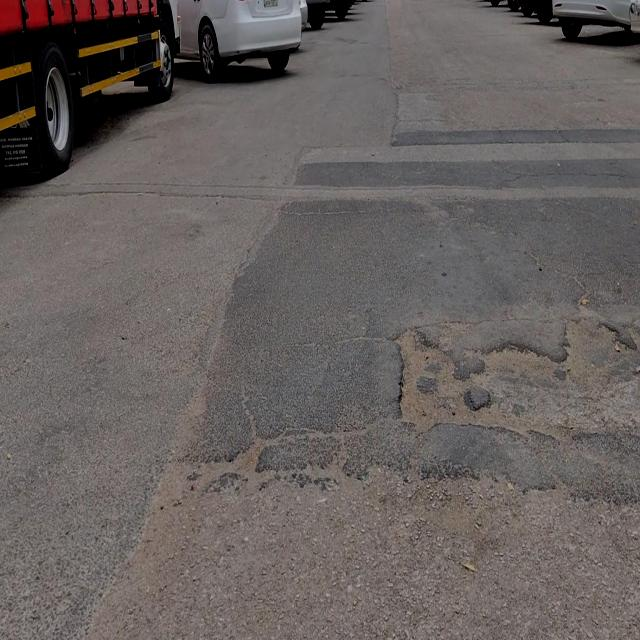Potholes: (389, 321, 491, 438), (463, 339, 566, 443)
